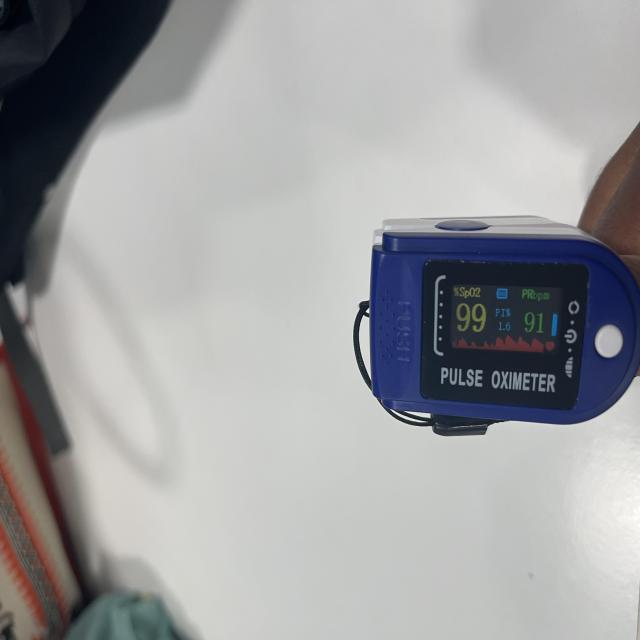spo2: (357, 217, 640, 439)
